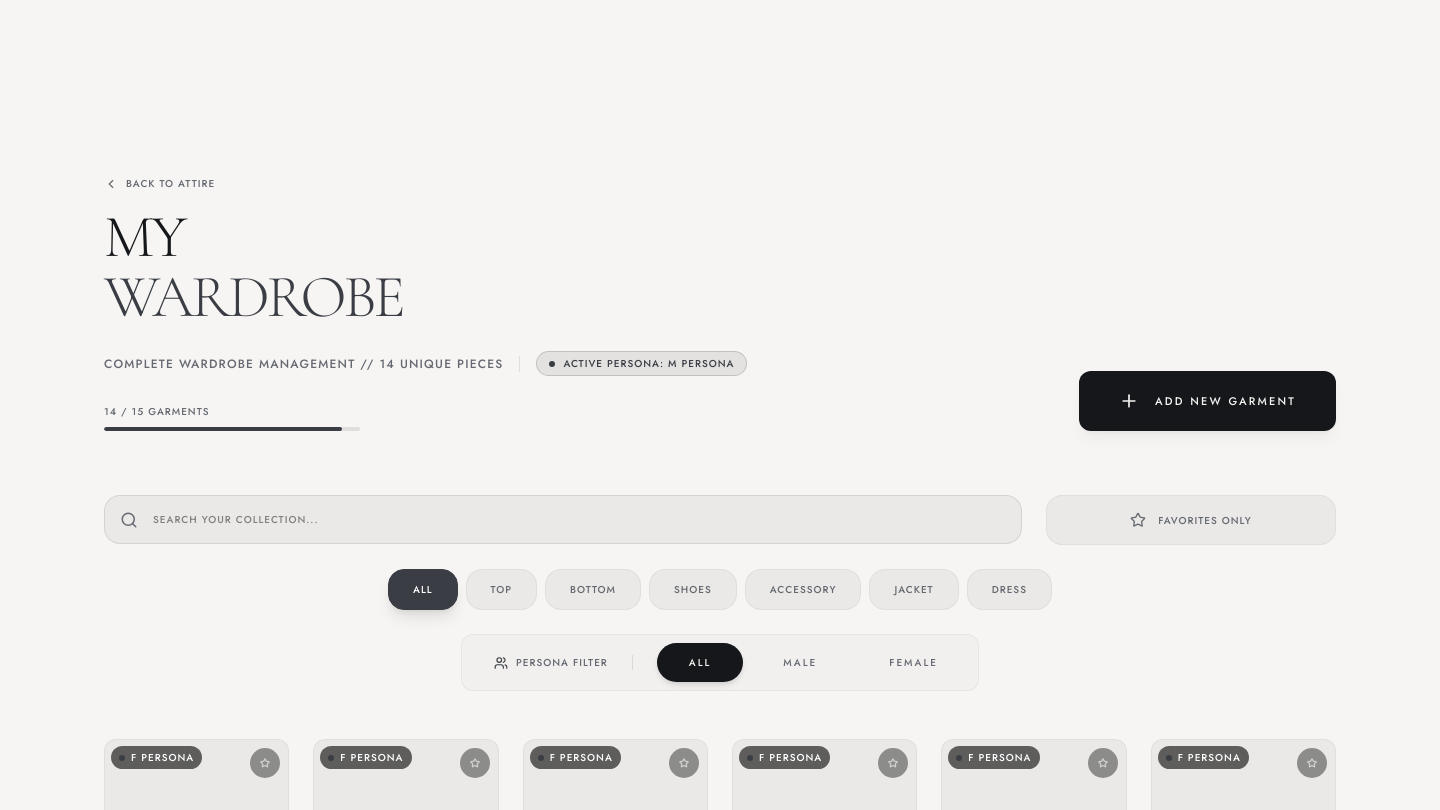
Test case: Closet page › with room left, the wizard opens
Click the button "Add New Garment".
click(1208, 401)  # box [1079,371,1336,431]
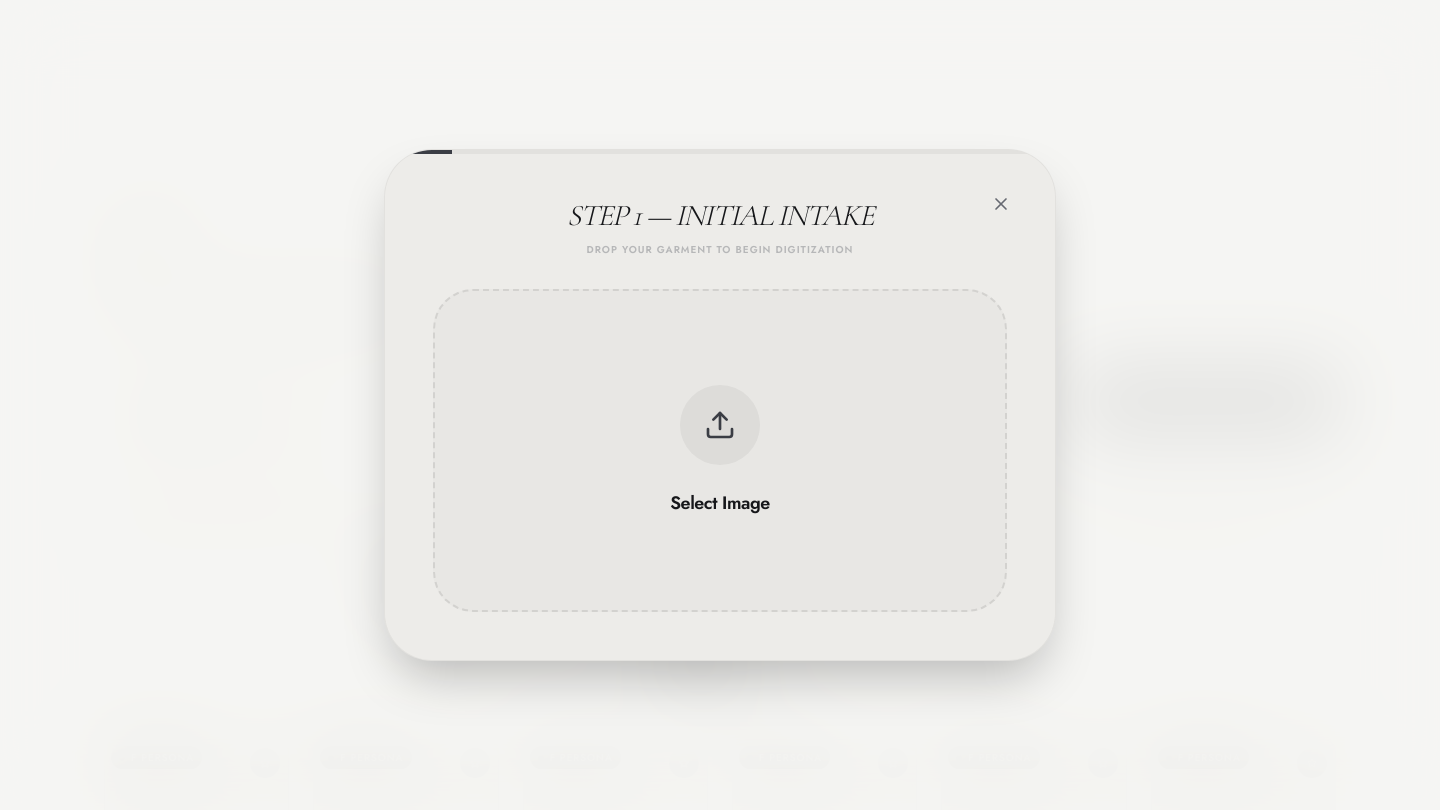
Check: the heading "Step 1 — Initial Intake" is shown, box [567,197,873,234]
